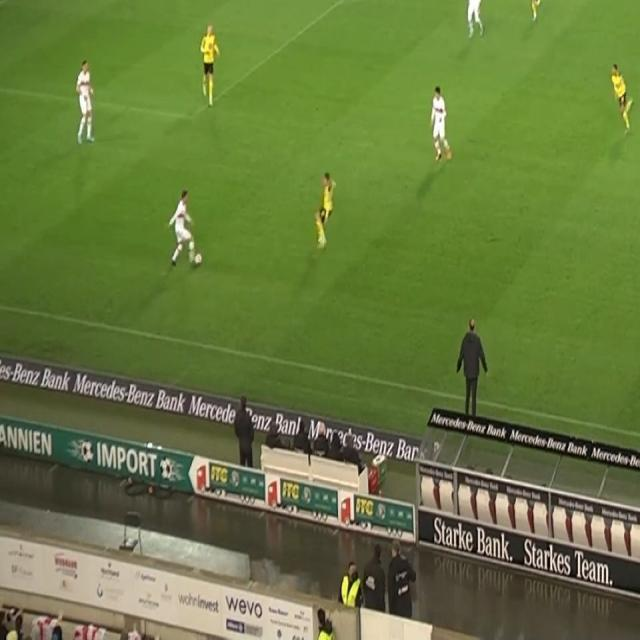ball: (195, 252, 202, 267)
